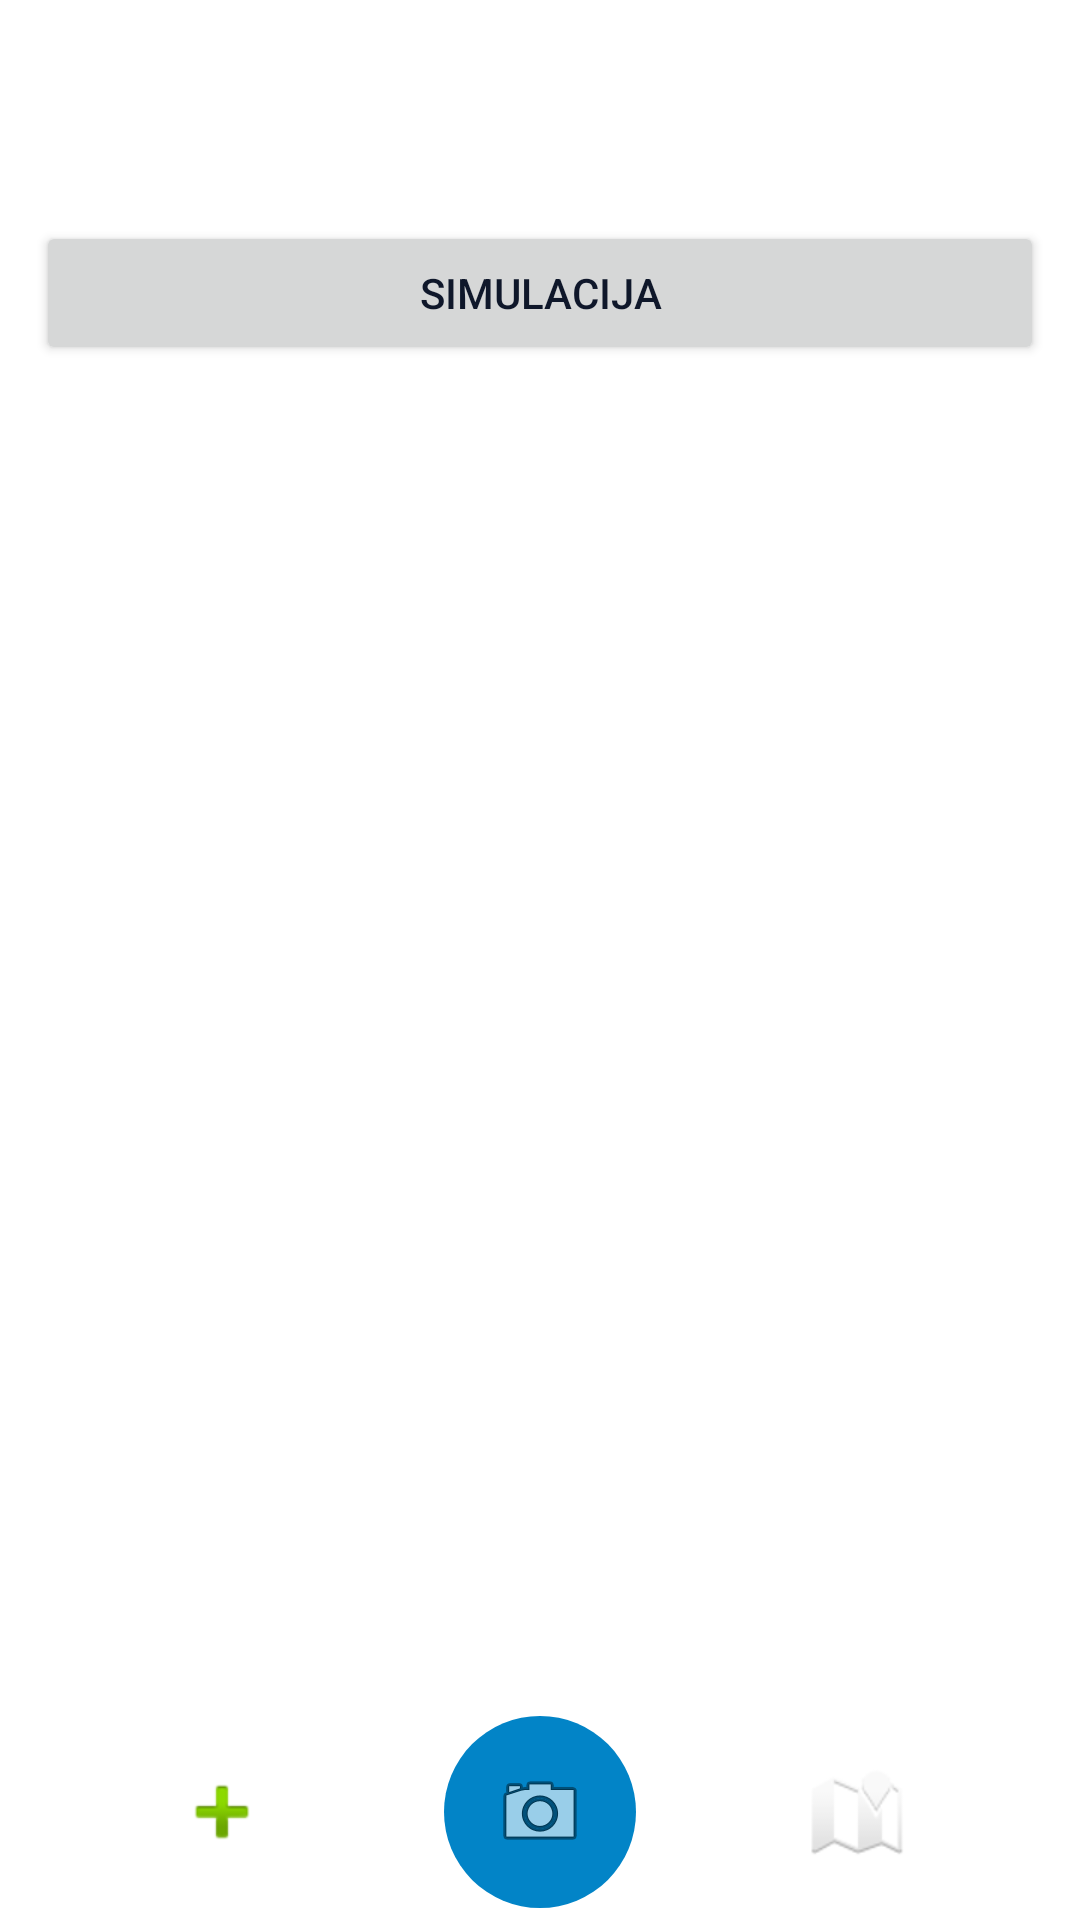

Icons on this 1080px x 1920px Android screen, each with the point to tap as [x,y]:
add: [222,1812]
camera: [540,1812]
map: [857,1817]
